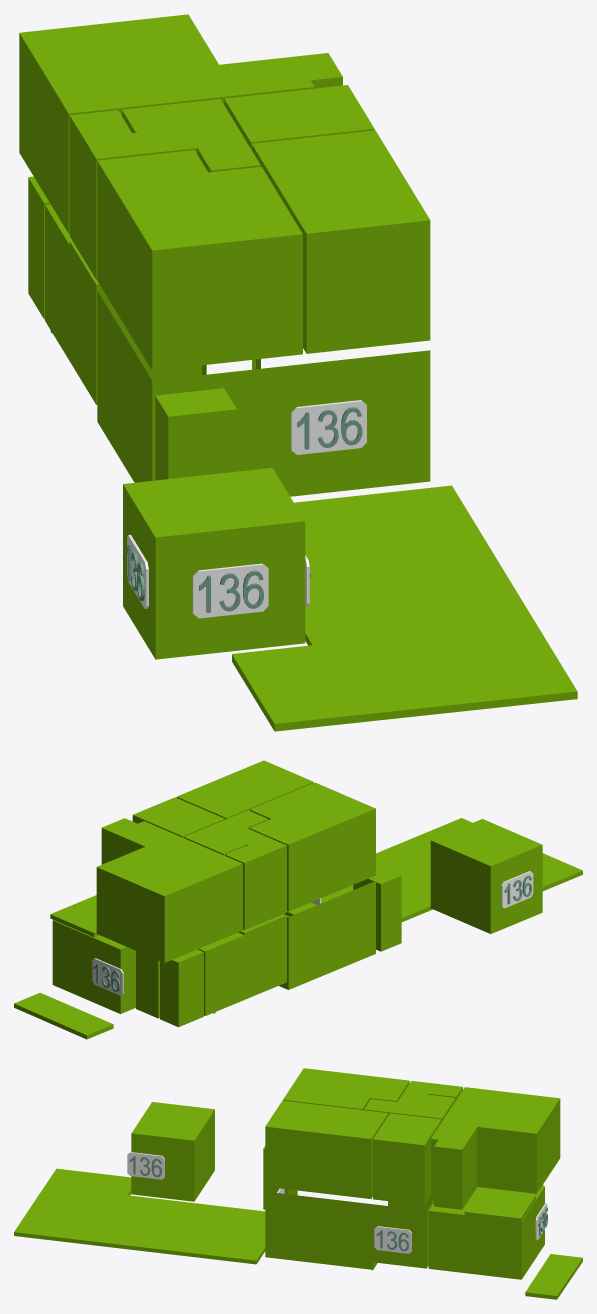
3 views of the same model, one above another, from view 1: azimuth 30°, elevation 25°; view 2: azimuth 150°, elevation 25°; view 3: azimuth 270°, elevation 25° (orthographic). The views are drawn at different scales.
Parts seen in each view (by area): view 1: g_12, g_6, g_1, g_7, g_5, g_8, g_2, g_4, g_10, g_9, g_11, g_38 (+2 smaller); view 2: g_8, g_6, g_5, g_2, g_1, g_0, g_12, g_7, g_11, g_3, g_4, g_13 (+5 smaller); view 3: g_12, g_8, g_1, g_7, g_0, g_5, g_10, g_6, g_14, g_9, g_13, g_18 (+3 smaller).
Boxes of the visible parts, box(x1,y1,x2,y2) form: g_12: box(232, 485, 577, 731); g_6: box(97, 150, 302, 370); g_1: box(97, 291, 430, 496); g_7: box(251, 130, 430, 353); g_5: box(123, 468, 305, 659); g_8: box(19, 14, 342, 233); g_2: box(45, 204, 201, 404); g_4: box(155, 388, 236, 480); g_10: box(224, 85, 374, 149); g_9: box(122, 99, 260, 172); g_11: box(69, 110, 151, 279); g_38: box(192, 563, 268, 618); g_8: box(96, 818, 242, 962); g_6: box(249, 782, 375, 911); g_5: box(430, 819, 542, 933); g_2: box(136, 914, 286, 1018); g_1: box(279, 881, 375, 989); g_0: box(52, 920, 135, 1013); g_12: box(284, 818, 582, 921); g_7: box(176, 760, 313, 819); g_11: box(225, 836, 286, 930); g_3: box(160, 949, 203, 1027); g_4: box(353, 865, 401, 951); g_13: box(14, 992, 113, 1039); g_12: box(14, 1168, 265, 1264); g_8: box(431, 1087, 560, 1209); g_1: box(265, 1191, 433, 1270); g_7: box(265, 1100, 388, 1198); g_0: box(428, 1186, 544, 1279); g_5: box(131, 1102, 214, 1201); g_10: box(373, 1113, 441, 1205); g_6: box(283, 1068, 409, 1110); g_14: box(464, 1189, 535, 1222); g_9: box(364, 1092, 455, 1121); g_13: box(525, 1254, 582, 1299); g_18: box(127, 1152, 164, 1179).
Size of the model in its own units: 11.34 by 5.35 by 20.48.
